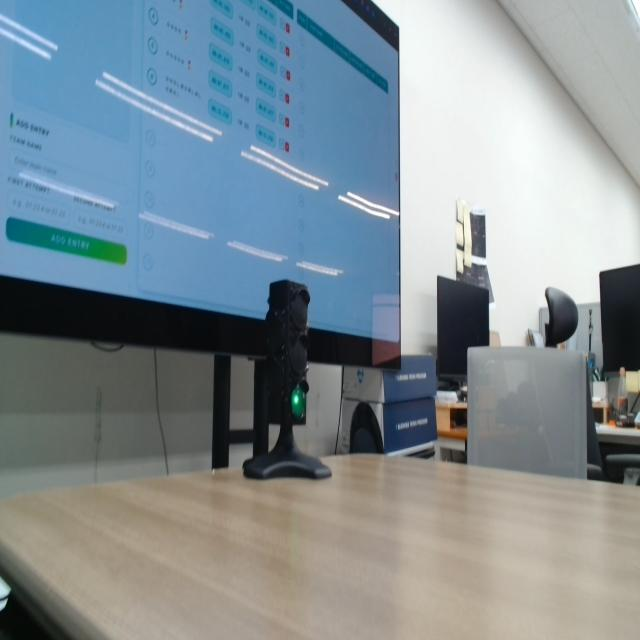green_light: (291, 387, 306, 419)
